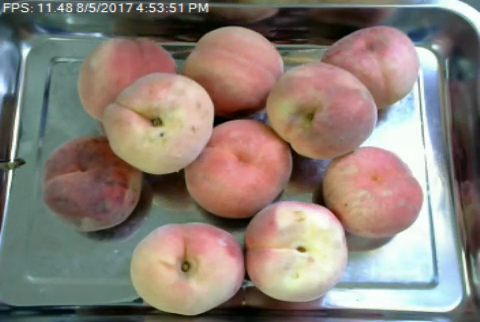Peach: (262, 62, 381, 161), (241, 200, 351, 304), (103, 75, 217, 175), (181, 119, 294, 218), (128, 224, 246, 315), (310, 22, 425, 110), (40, 133, 142, 231), (321, 145, 425, 238), (182, 26, 284, 113), (82, 36, 173, 123)
